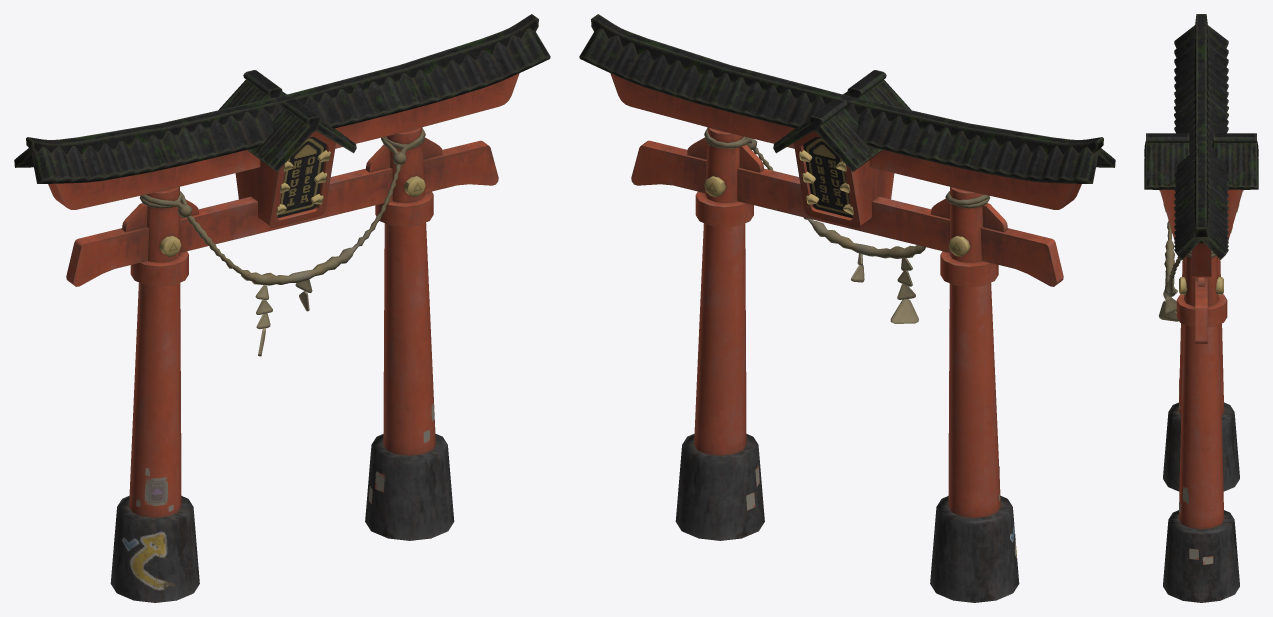
The model's file is torii.fbx.
3 views of the same model, side by side, from view 1: azimuth 30°, elevation 25°; view 2: azimuth 150°, elevation 25°; view 3: azimuth 270°, elevation 25° (orthographic). The views are drawn at different scales.
Visible parts, largest first — view 1: Gakuzuka_low__Torii; view 2: Gakuzuka_low__Torii; view 3: Gakuzuka_low__Torii.
Boxes of the visible parts, <box> form: Gakuzuka_low__Torii: <box>14,14,550,602</box>; Gakuzuka_low__Torii: <box>579,14,1115,602</box>; Gakuzuka_low__Torii: <box>1144,14,1258,602</box>.
Size of the model in its own units: 911 by 808 by 203.
Materials: 1 (1 with a texture image).
